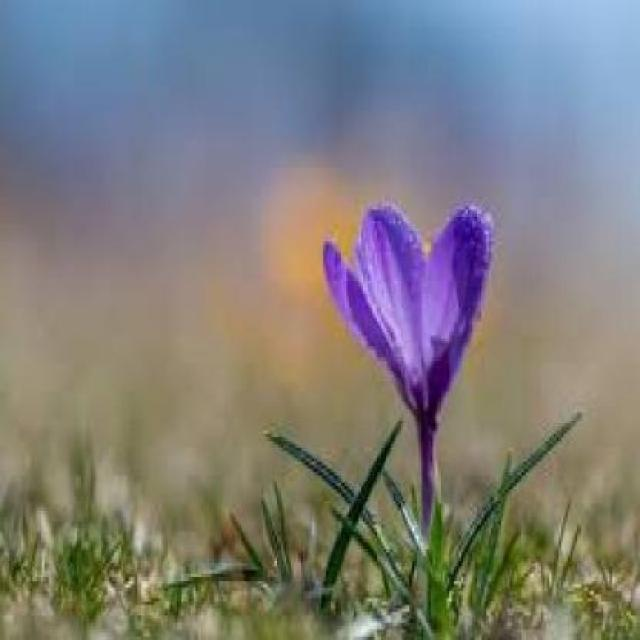Flower: (322, 202, 496, 446)
